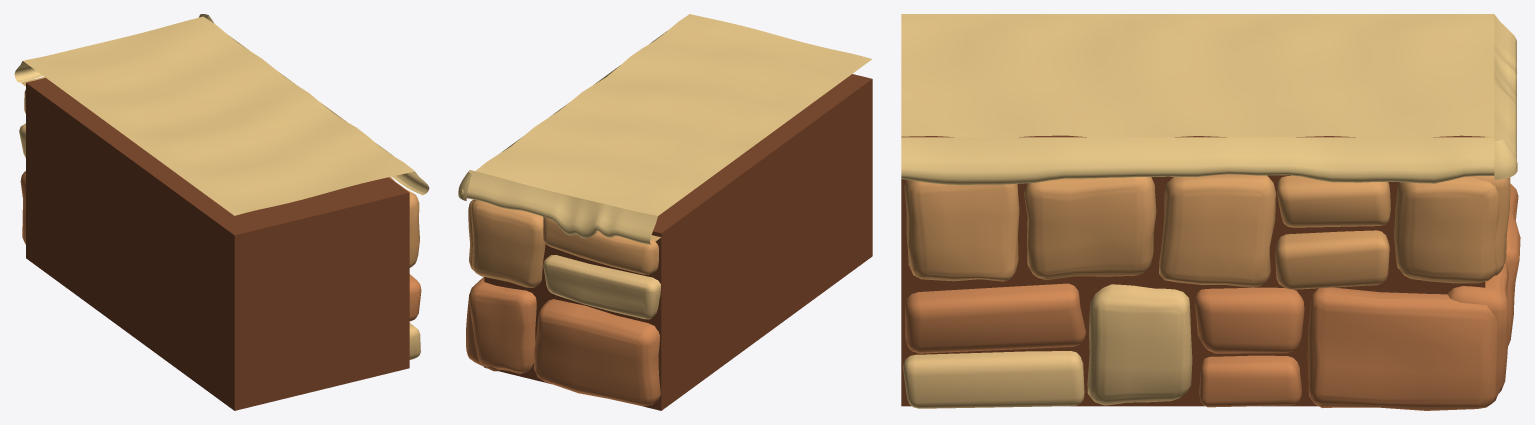
Rendered from SD_G12_Sandstone_End_L.fbx.
3 views of the same model, side by side, from view 1: azimuth 30°, elevation 25°; view 2: azimuth 150°, elevation 25°; view 3: azimuth 270°, elevation 25° (orthographic). The views are drawn at different scales.
Parts seen in each view (by area): view 1: SD_G12_Sandstone_End_L; view 2: SD_G12_Sandstone_End_L; view 3: SD_G12_Sandstone_End_L.
Boxes of the visible parts, x1,y1,x2,y2 form: SD_G12_Sandstone_End_L: (14,14,429,410); SD_G12_Sandstone_End_L: (458,14,872,410); SD_G12_Sandstone_End_L: (901,14,1520,410).
Size of the model in its own units: 211 by 202 by 411.
